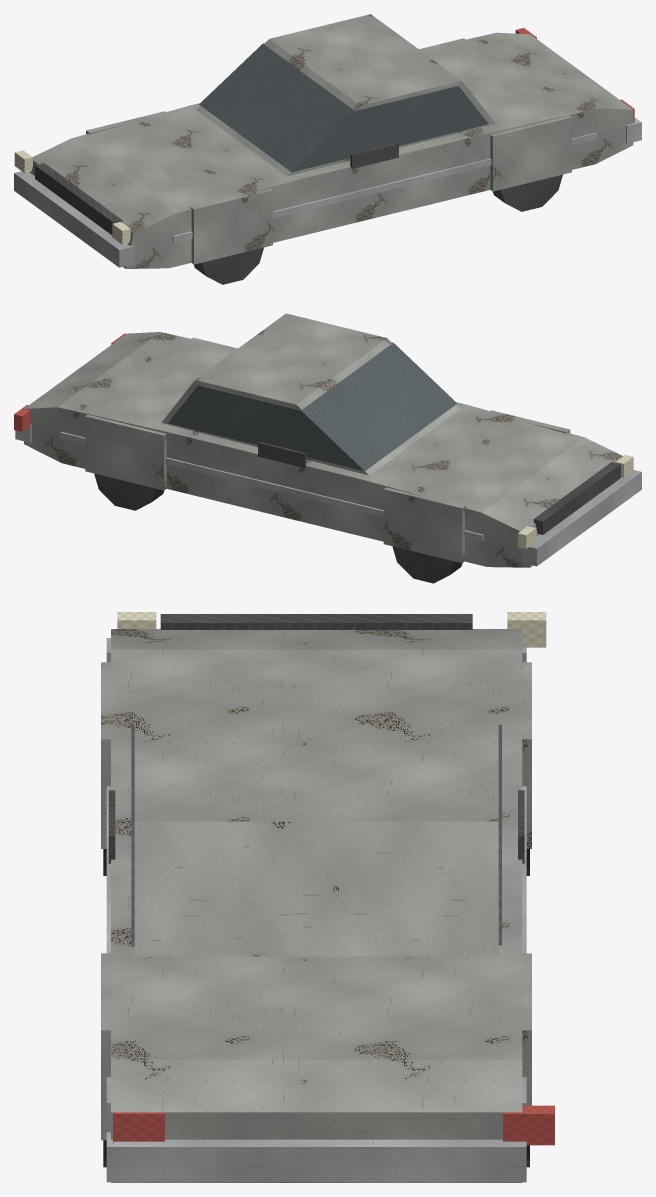
Rendered from car_sedan.glb.
3 renders of one model, top to bottom at view 1: azimuth 30°, elevation 25°; view 2: azimuth 150°, elevation 25°; view 3: azimuth 270°, elevation 25°, orthographic. The views are drawn at different scales.
Parts seen in each view (by area): view 1: NC_car_sedan; view 2: NC_car_sedan; view 3: NC_car_sedan.
Boxes of the visible parts, x1,y1,x2,y2 form: NC_car_sedan: (14,14,641,284); NC_car_sedan: (14,313,641,583); NC_car_sedan: (101,612,554,1182).
Size of the model in its own units: 5.56 by 1.4 by 2.1.
7 materials, 7 textured.
